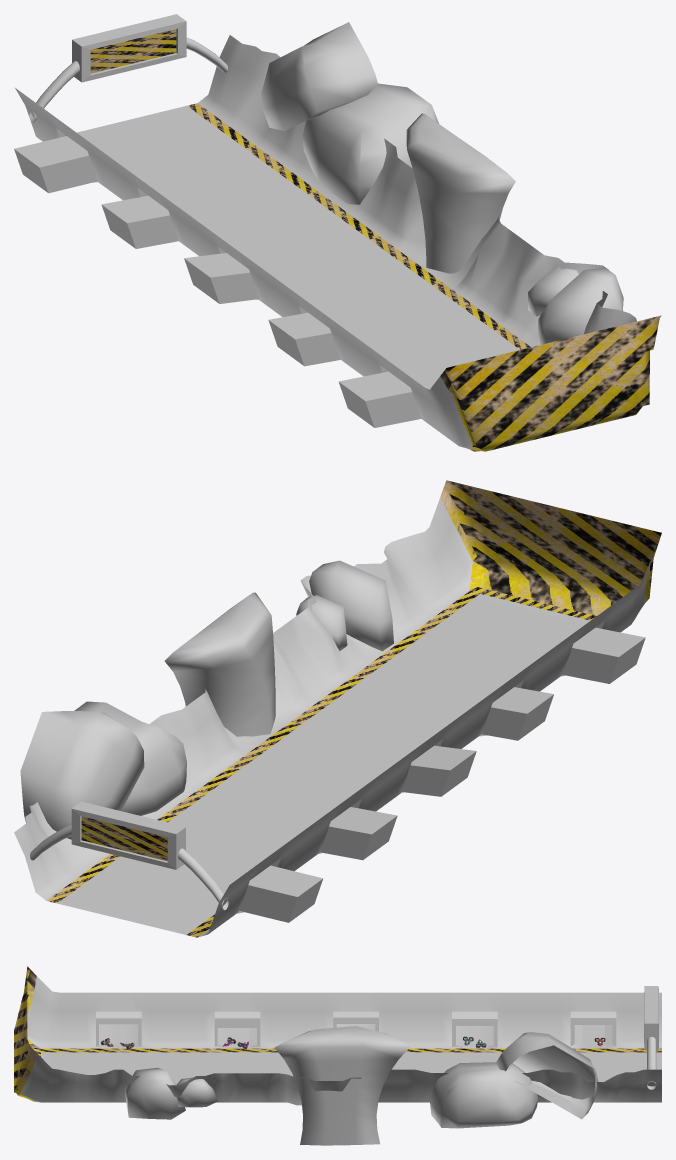
Rendered from startFinish_Chunk.fbx.
3 renders of one model, top to bottom at view 1: azimuth 30°, elevation 25°; view 2: azimuth 150°, elevation 25°; view 3: azimuth 270°, elevation 25°, orthographic. The views are drawn at different scales.
Parts seen in each view (by area): view 1: startFinish_Chunk; view 2: startFinish_Chunk; view 3: startFinish_Chunk.
Part boxes in pixels (bbox=[...]): startFinish_Chunk: bbox=[14, 14, 661, 451]; startFinish_Chunk: bbox=[14, 480, 661, 937]; startFinish_Chunk: bbox=[14, 966, 661, 1145].
Bounding box in the file's own units: 60.27 × 26.2 × 142.
